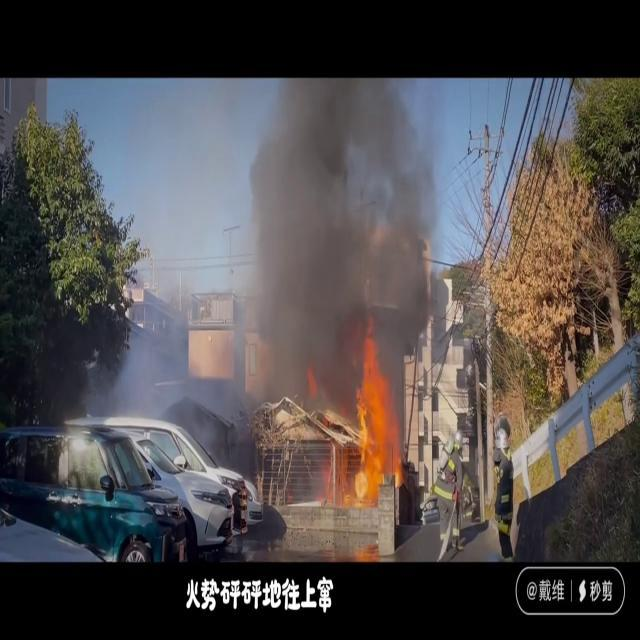Fire: (326, 328, 402, 506)
Smoke: (224, 78, 448, 393)
